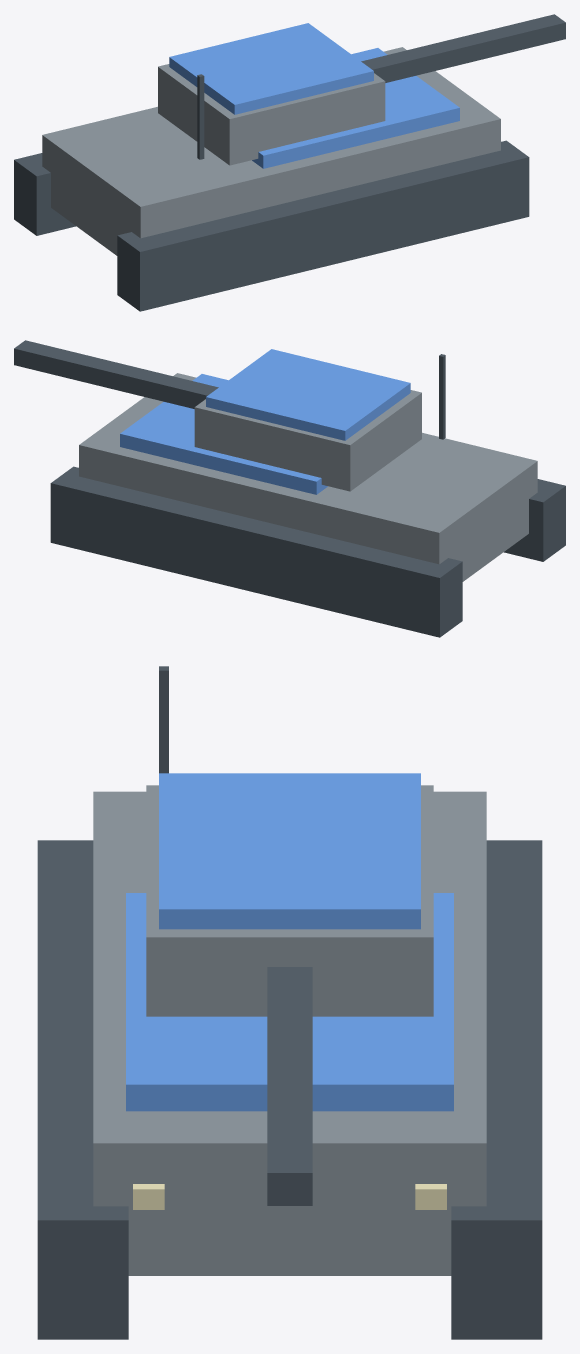
File: zware_tank.glb
The picture shows the model from 3 angles, top to bottom: view 1: azimuth 30°, elevation 25°; view 2: azimuth 150°, elevation 25°; view 3: azimuth 270°, elevation 25°; orthographic projection. The views are drawn at different scales.
Parts seen in each view (by area): view 1: hull_dark_LOD0, hull_steel_LOD0, turret_team_LOD0, turret_steel_LOD0, hull_team_LOD0, barrel_dark_LOD0; view 2: hull_dark_LOD0, hull_steel_LOD0, turret_team_LOD0, turret_steel_LOD0, hull_team_LOD0, barrel_dark_LOD0; view 3: hull_steel_LOD0, hull_dark_LOD0, turret_team_LOD0, hull_team_LOD0, turret_steel_LOD0, barrel_dark_LOD0, hull_lamp_LOD0.
Part boxes in pixels (left/top/right/bottom): hull_dark_LOD0: left=14, top=74, right=529, bottom=311; hull_steel_LOD0: left=42, top=47, right=500, bottom=255; turret_team_LOD0: left=169, top=23, right=373, bottom=114; turret_steel_LOD0: left=158, top=64, right=385, bottom=165; hull_team_LOD0: left=252, top=48, right=459, bottom=168; barrel_dark_LOD0: left=361, top=14, right=565, bottom=82; hull_dark_LOD0: left=50, top=354, right=565, bottom=637; hull_steel_LOD0: left=79, top=373, right=537, bottom=581; turret_team_LOD0: left=206, top=349, right=410, bottom=440; turret_steel_LOD0: left=194, top=390, right=421, bottom=491; hull_team_LOD0: left=120, top=374, right=327, bottom=494; barrel_dark_LOD0: left=14, top=340, right=218, bottom=408; hull_steel_LOD0: left=93, top=791, right=486, bottom=1275; hull_dark_LOD0: left=37, top=666, right=542, bottom=1339; turret_team_LOD0: left=159, top=773, right=420, bottom=929; hull_team_LOD0: left=126, top=893, right=453, bottom=1111; turret_steel_LOD0: left=146, top=785, right=433, bottom=1016; barrel_dark_LOD0: left=267, top=967, right=312, bottom=1205; hull_lamp_LOD0: left=133, top=1184, right=446, bottom=1209.
Size of what is drawn, in the model's own units: 8.85 by 3.34 by 4.
